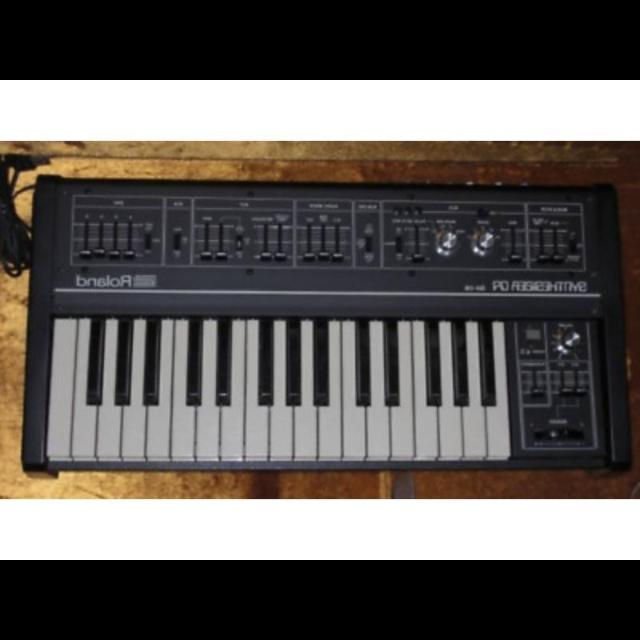Electronic-Keyboard: (22, 164, 618, 484)
